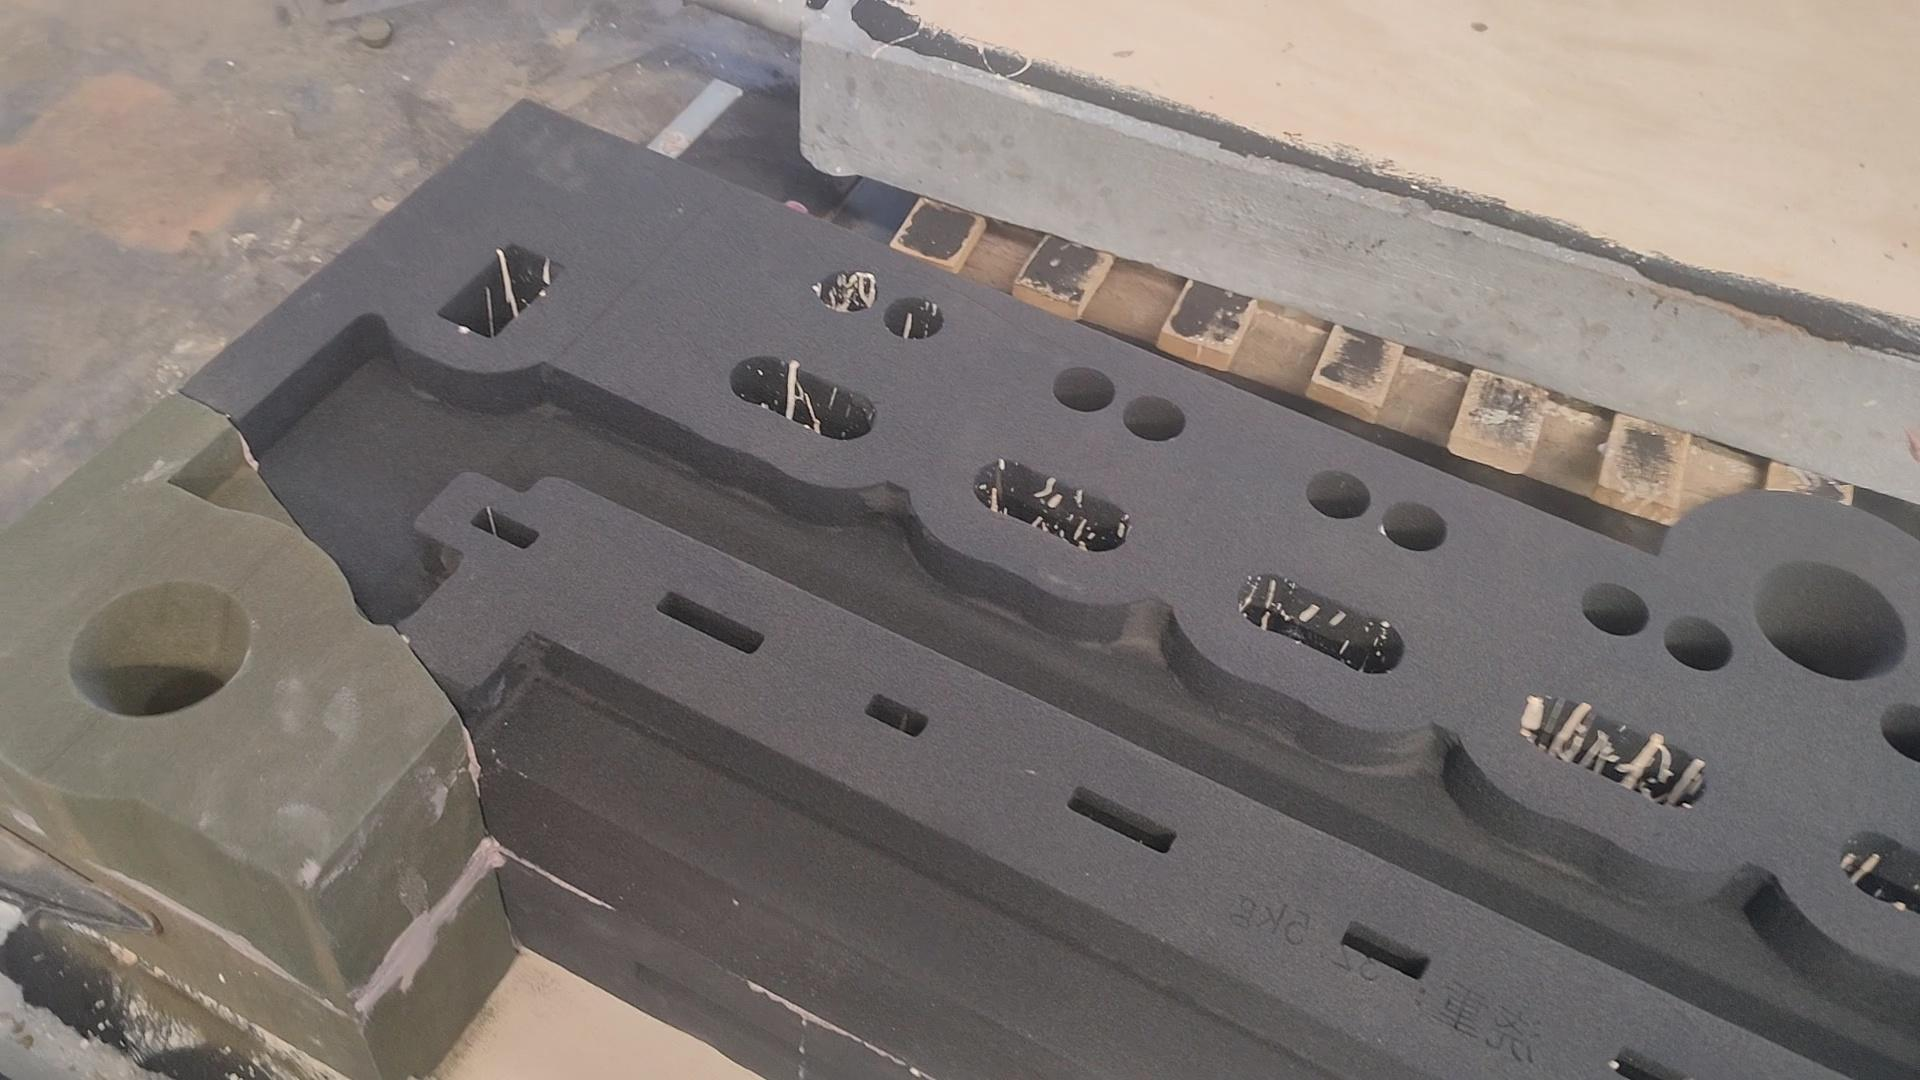pouring hole: (69, 580, 252, 717), (1753, 560, 1907, 682)
